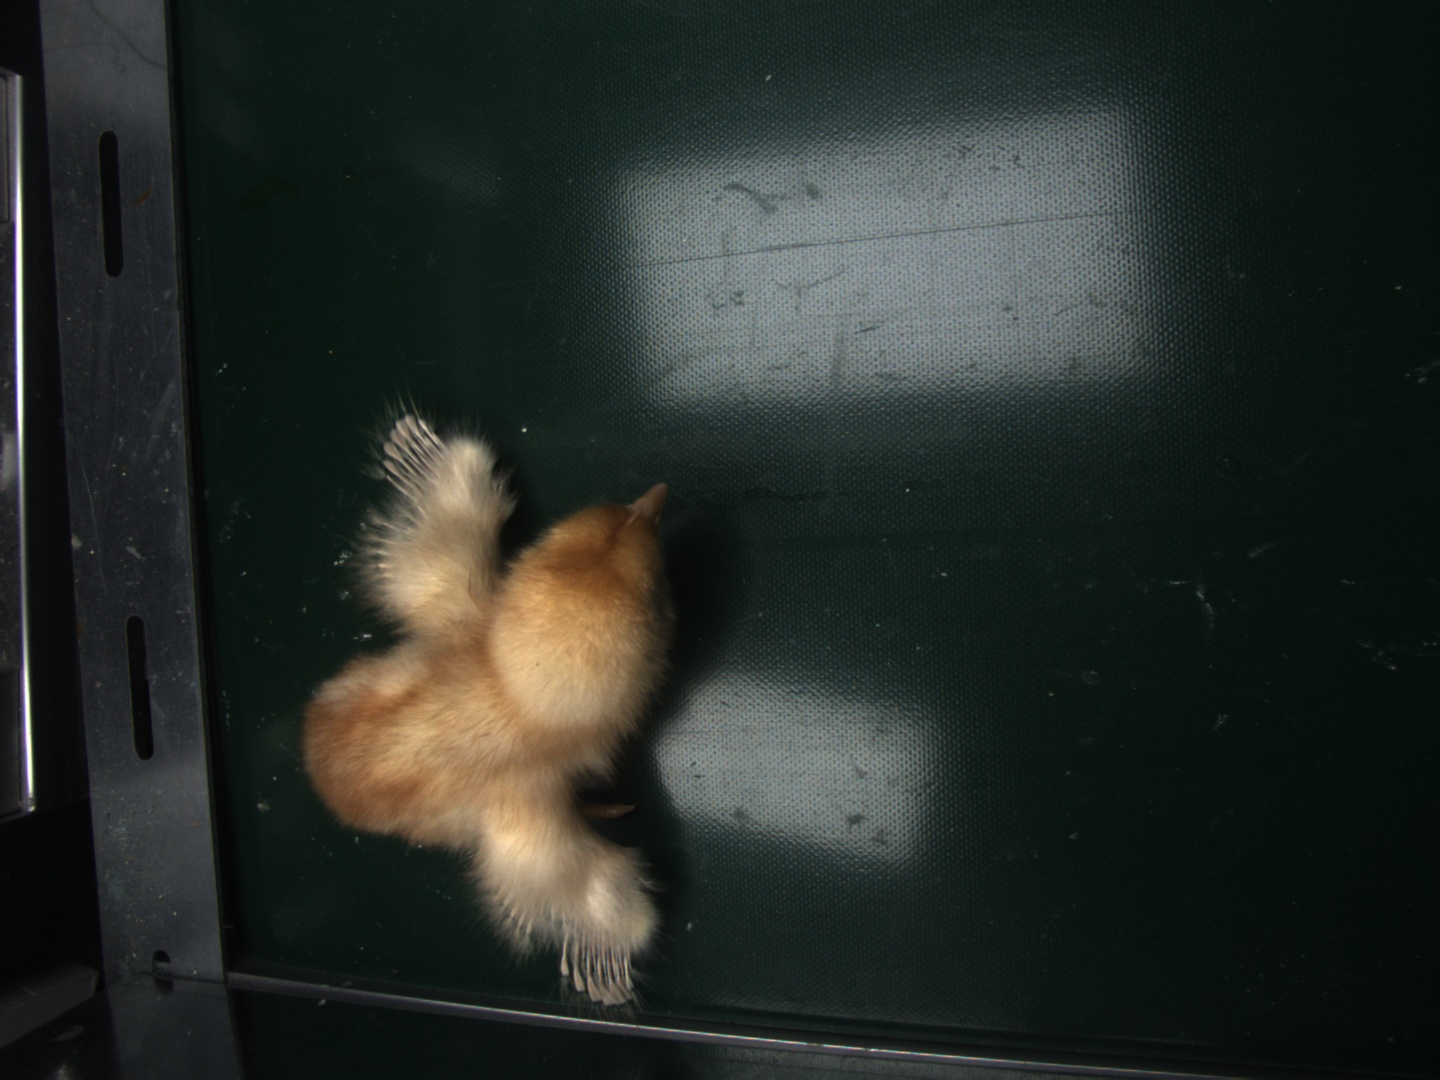female: (383, 414, 450, 503), (564, 936, 639, 1006)
